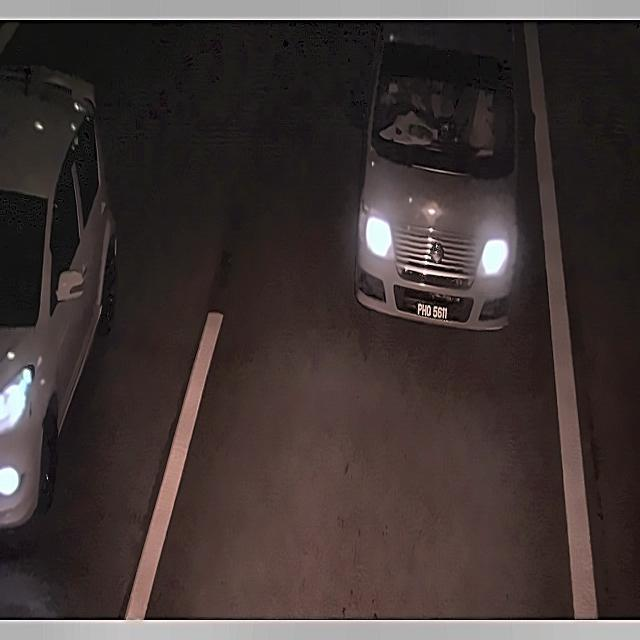car: (412, 300, 453, 325)
